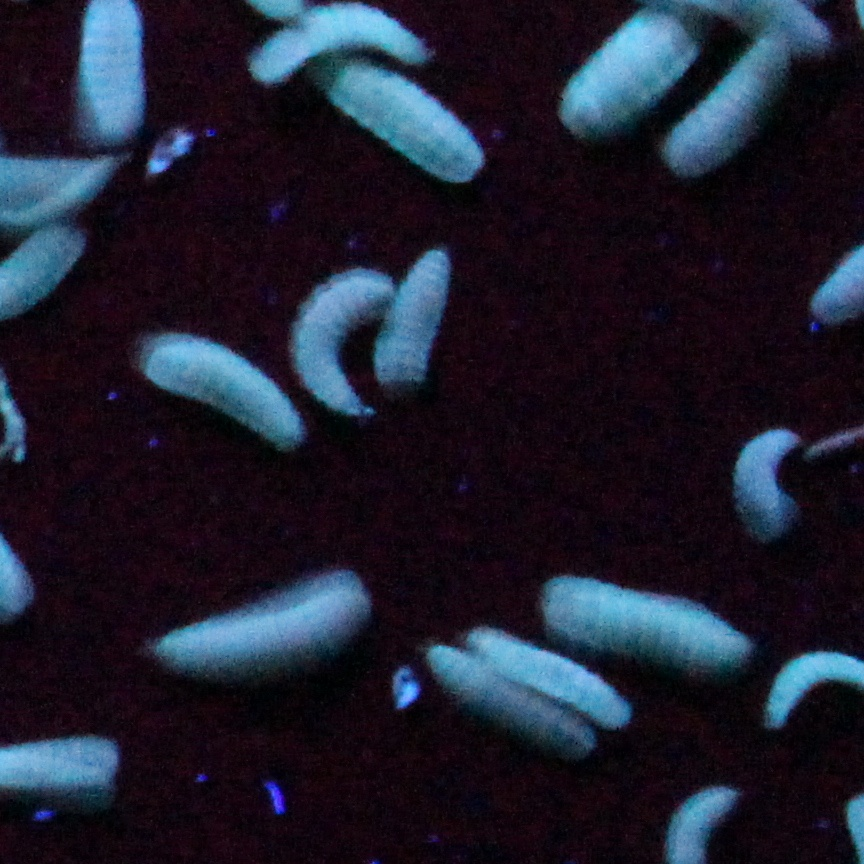larve: (559, 0, 718, 136), (152, 567, 369, 666), (321, 66, 490, 184), (541, 577, 756, 667), (415, 640, 592, 749), (662, 30, 793, 174), (141, 325, 298, 444), (466, 620, 630, 733), (289, 269, 397, 415), (249, 4, 439, 71), (377, 246, 456, 382), (731, 422, 812, 541)
